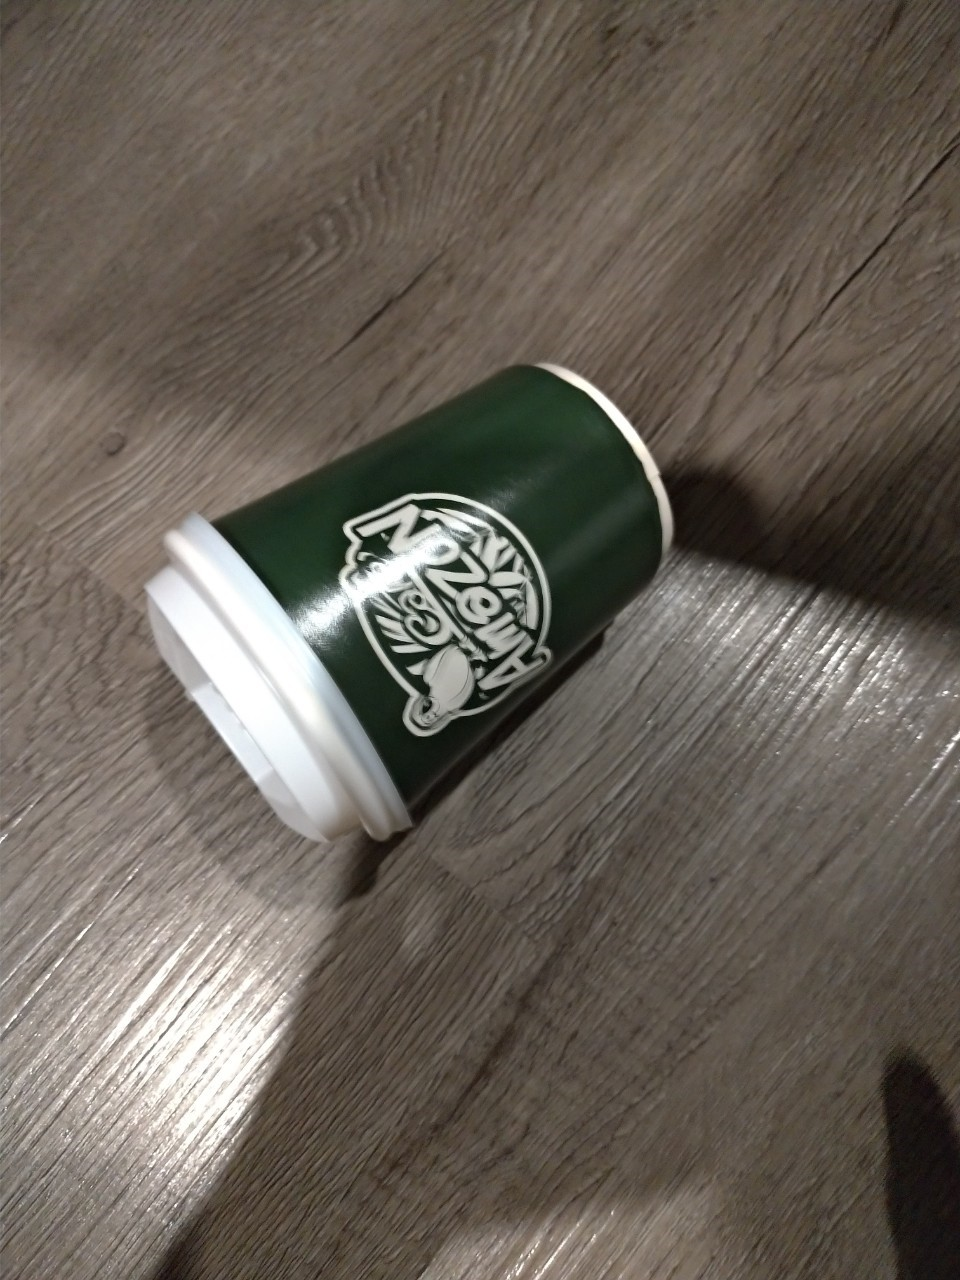PaperCup: (144, 365, 677, 861)
